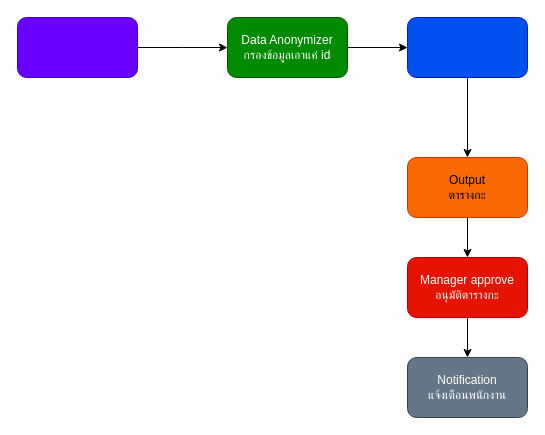
The diagram is 545 pixels wide and 435 high, and some of its shapes have lost their labels. Each missing label, with the box of its shape:
AI Model วางแผนกะ: (406, 16, 528, 78)
Employee Database ข้อมูลพนักงาน: (16, 16, 138, 78)
